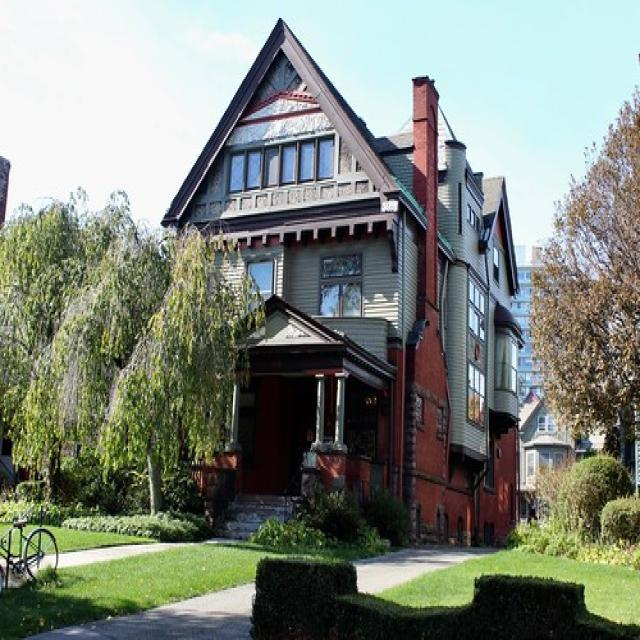building: (154, 12, 522, 550)
